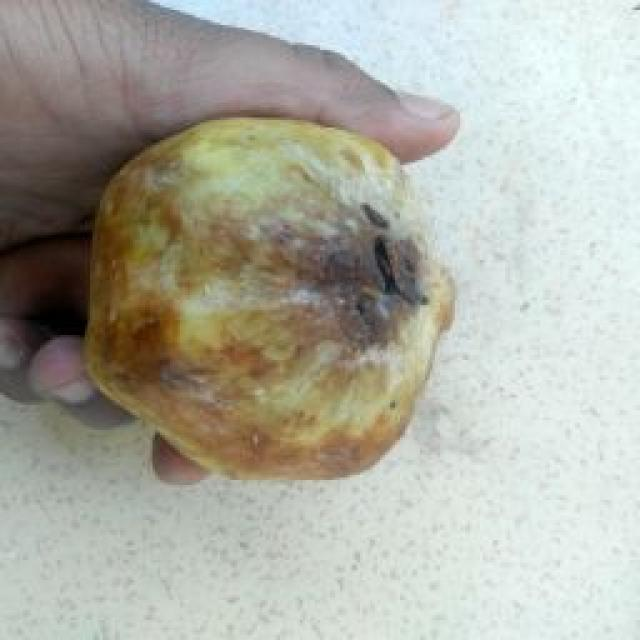Bad_Guava: (89, 120, 452, 478)
